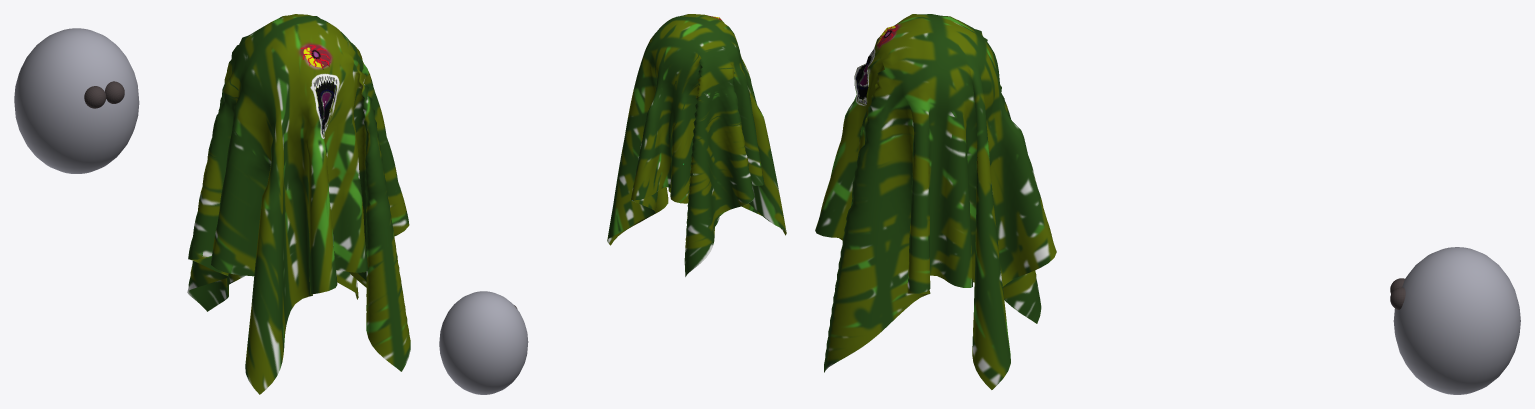
File: enemy.fbx
3 renders of one model, left to right at view 1: azimuth 30°, elevation 25°; view 2: azimuth 150°, elevation 25°; view 3: azimuth 270°, elevation 25°, orthographic. The views are drawn at different scales.
Visible parts, largest first — view 1: Plane, Sphere, Sphere.001; view 2: Plane, Sphere; view 3: Plane, Sphere.
Boxes of the visible parts, <box> form: Plane: <box>187,14,410,394</box>; Sphere: <box>14,28,139,173</box>; Sphere.001: <box>84,81,124,108</box>; Plane: <box>607,14,786,276</box>; Sphere: <box>439,291,528,394</box>; Plane: <box>815,14,1056,389</box>; Sphere: <box>1393,247,1520,394</box>.
Size of the model in its own units: 368 by 609 by 1110.
